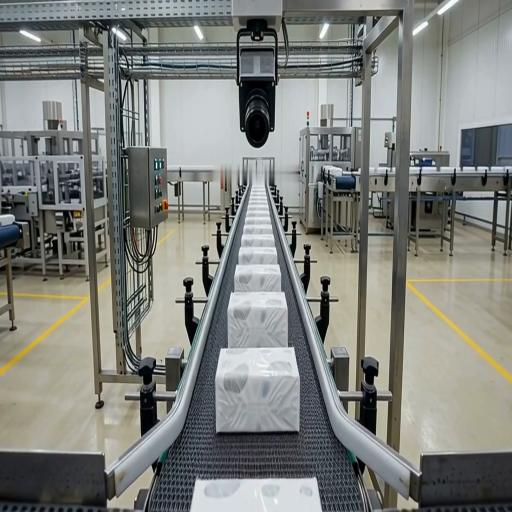good: (216, 348, 299, 432), (191, 478, 321, 511), (228, 293, 288, 348), (234, 265, 281, 292), (239, 247, 277, 265), (241, 234, 275, 246), (243, 225, 273, 234), (245, 215, 271, 225), (248, 204, 269, 213), (246, 211, 269, 218), (249, 198, 267, 205)
